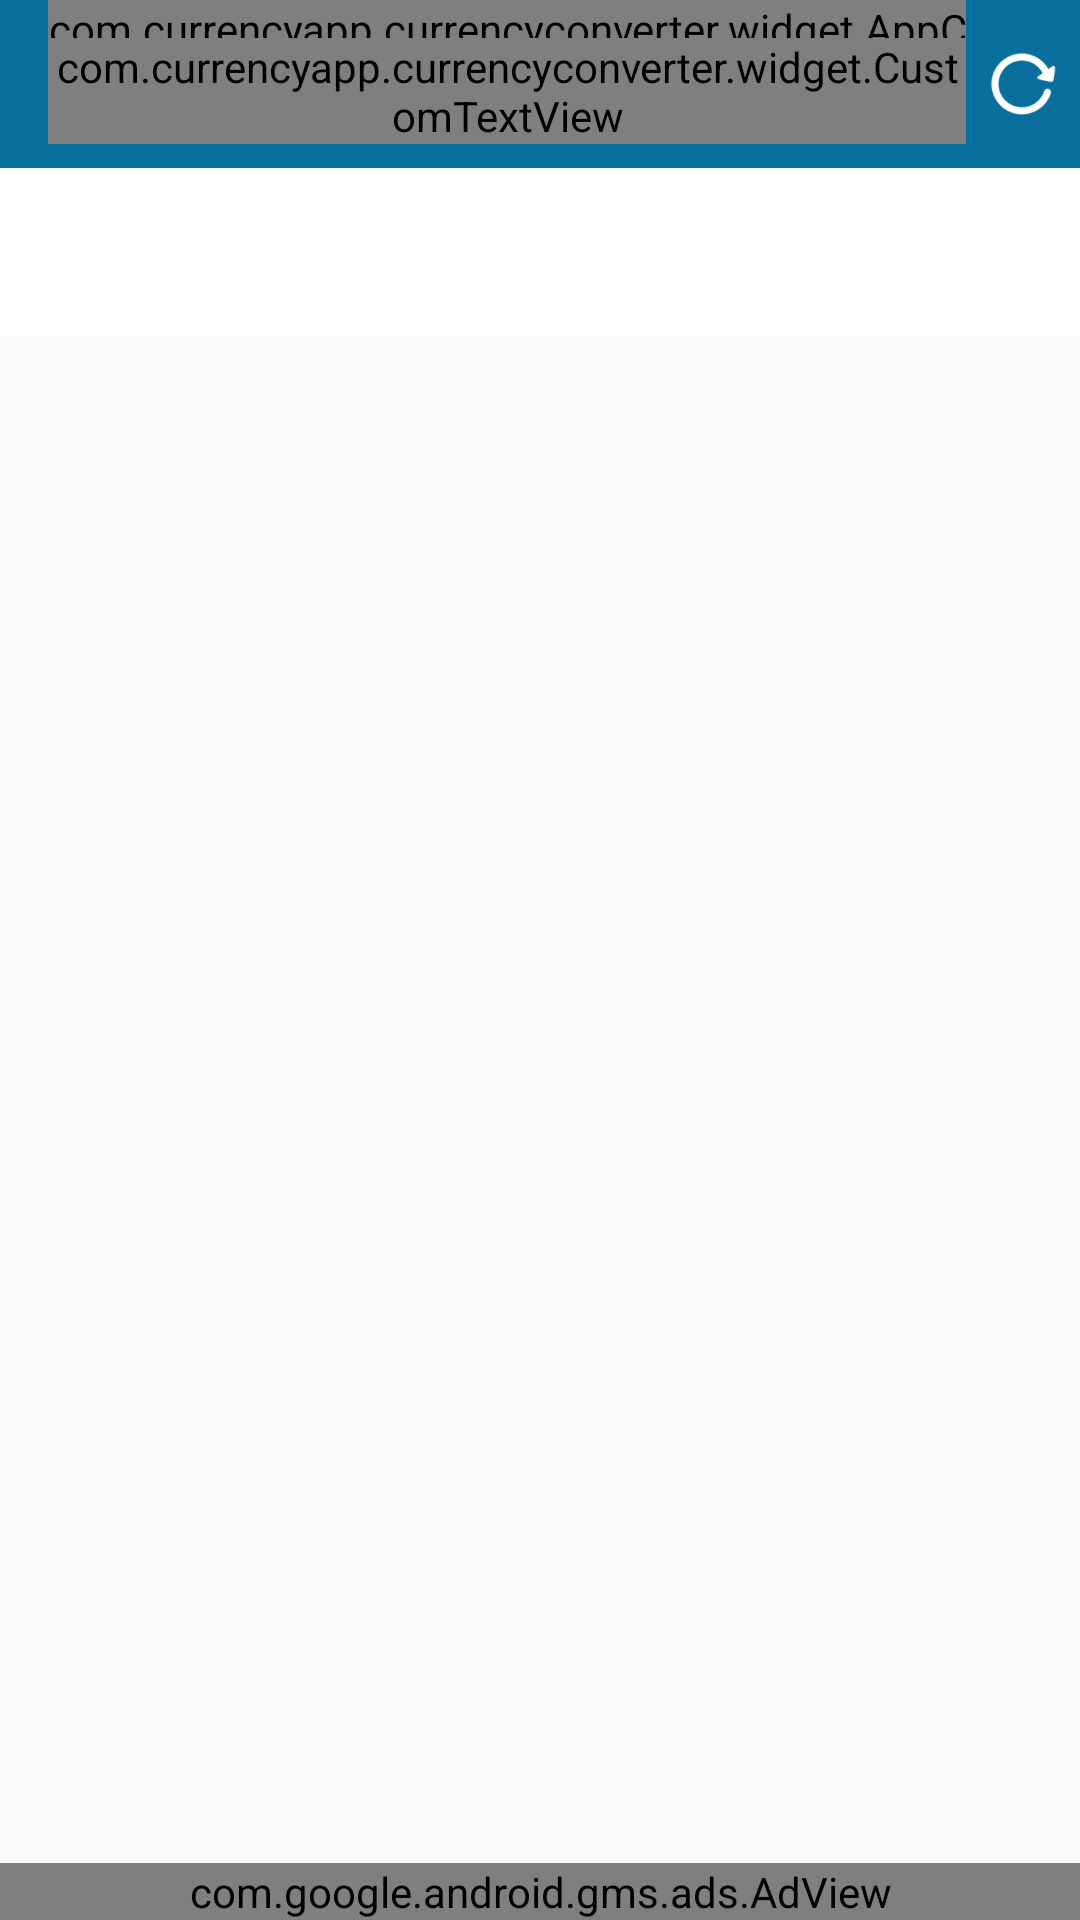

Point at icon controls on the screen. Image size 1080×1920, points as [x,y].
refersh: [1023,84]
